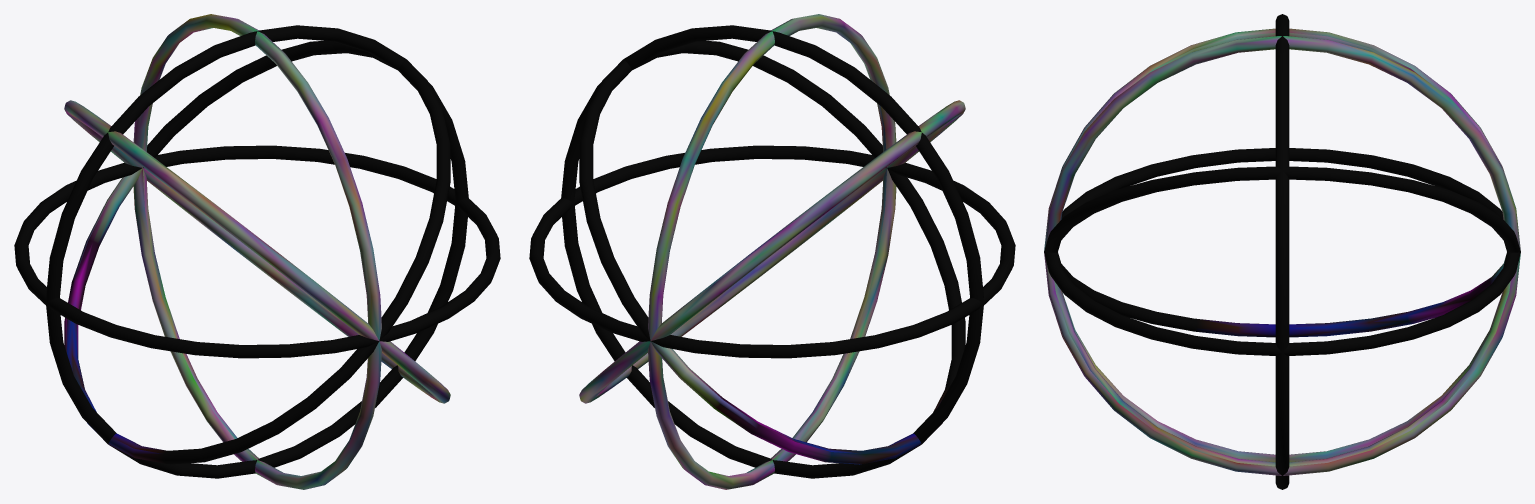
Rendered from SM_Mutator_Multi.gltf.
3 renders of one model, left to right at view 1: azimuth 30°, elevation 25°; view 2: azimuth 150°, elevation 25°; view 3: azimuth 270°, elevation 25°, orthographic. The views are drawn at different scales.
Parts seen in each view (by area): view 1: SM_Mutator_Multi; view 2: SM_Mutator_Multi; view 3: SM_Mutator_Multi.
Boxes of the visible parts, x1,y1,x2,y2 form: SM_Mutator_Multi: (14,14,500,489); SM_Mutator_Multi: (529,14,1015,489); SM_Mutator_Multi: (1044,14,1520,489).
Size of the model in its own units: 2.26 by 2.26 by 2.26.
